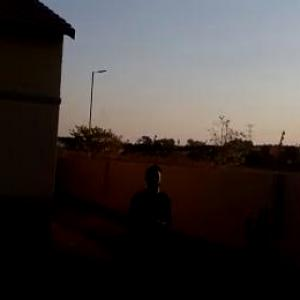follow: (124, 154, 183, 298)
